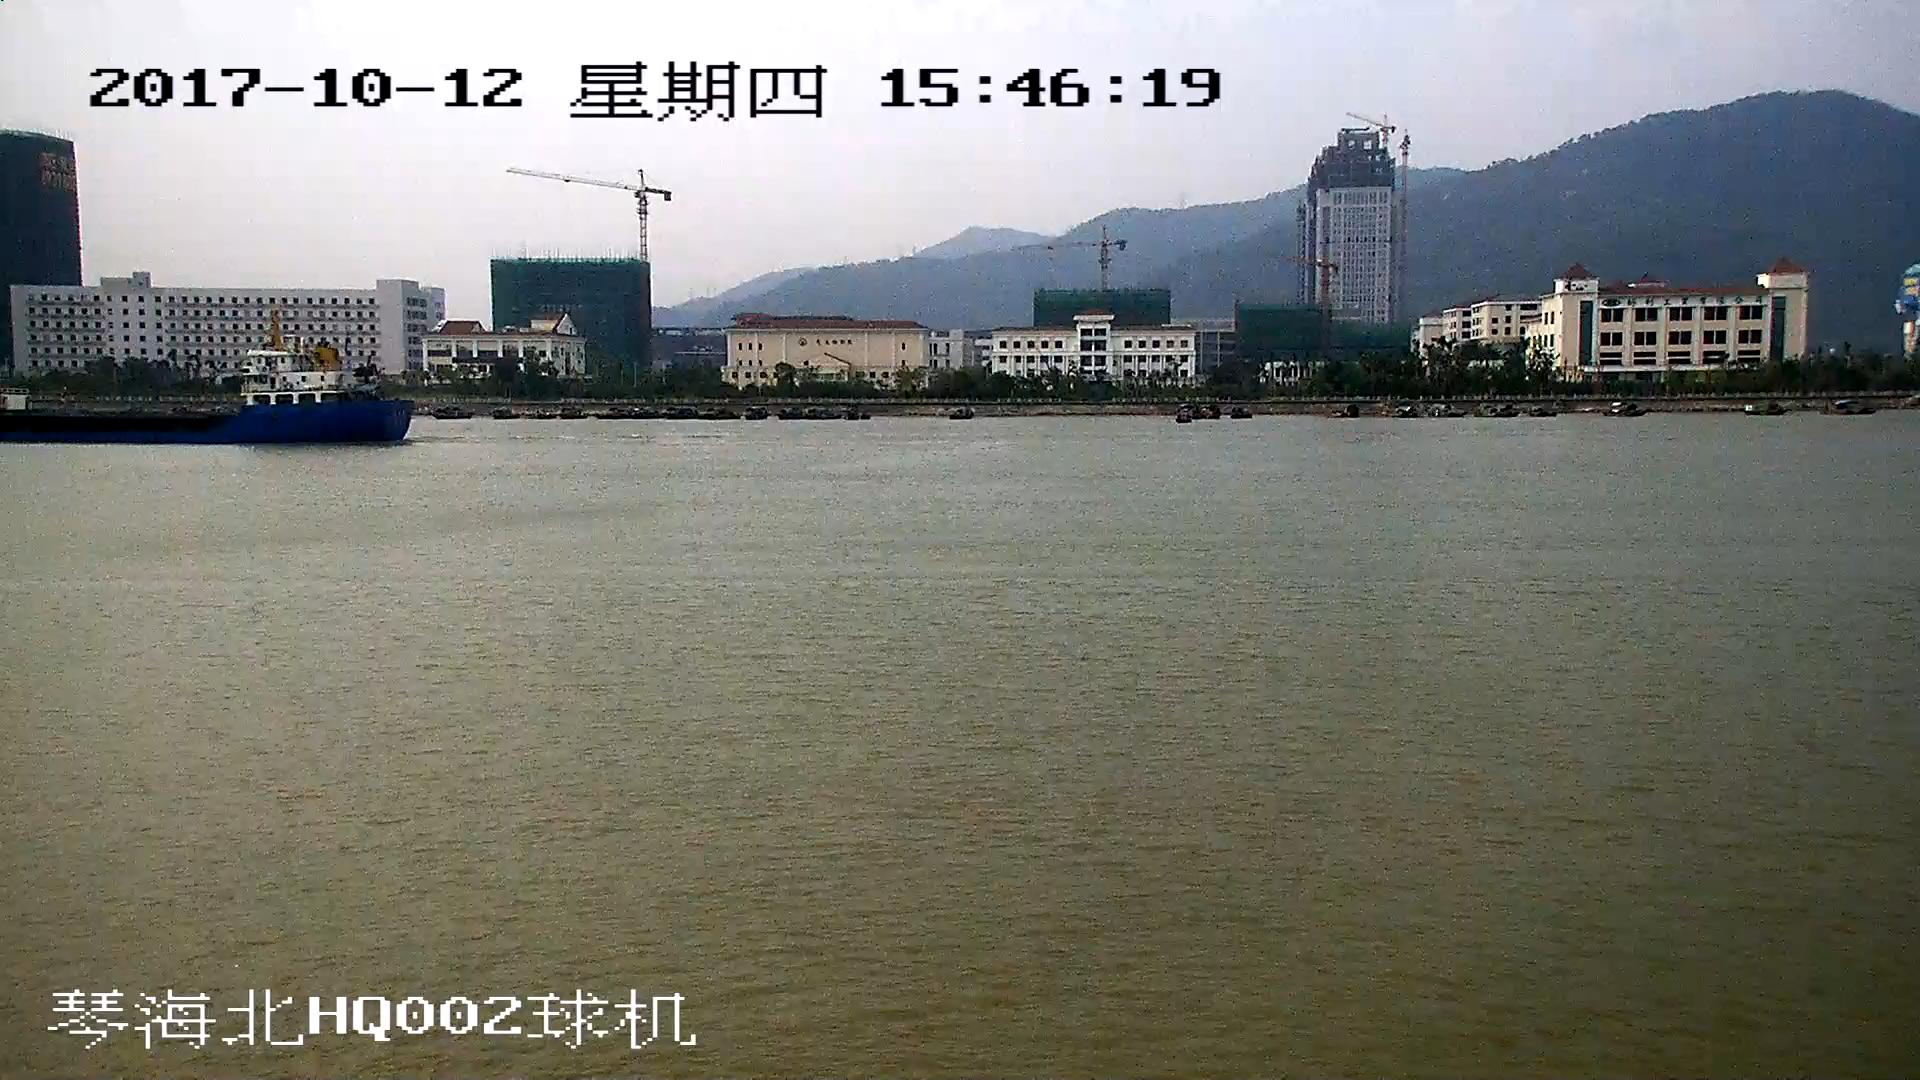general cargo ship: (1, 343, 414, 446)
